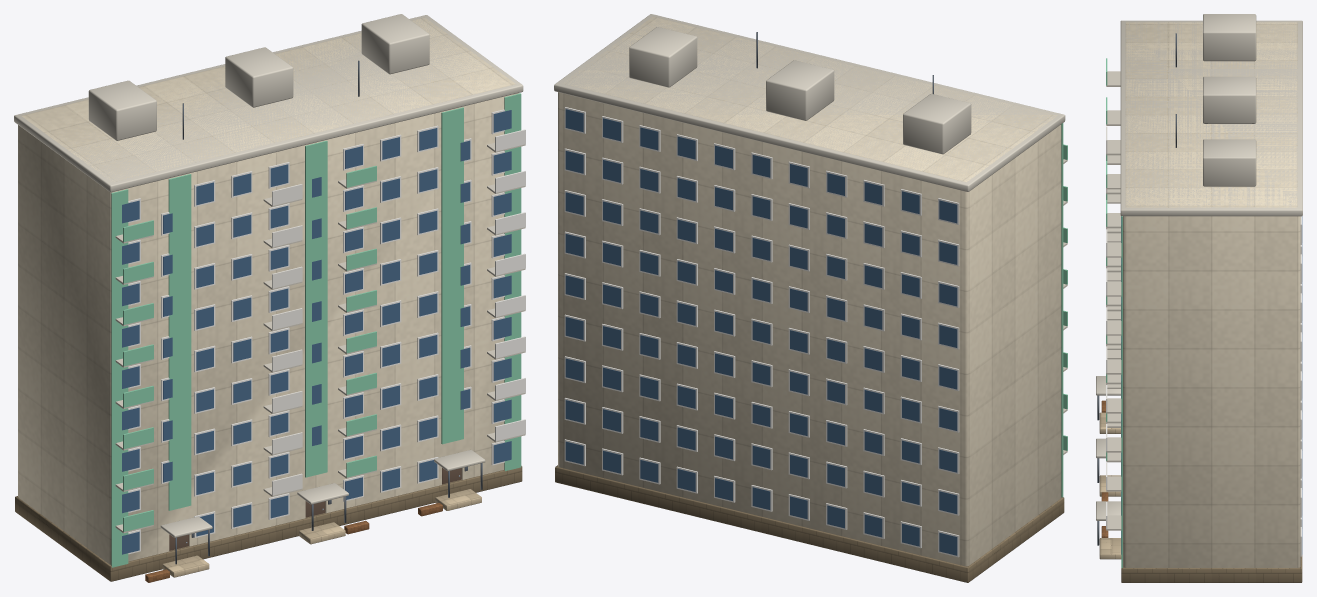
Rendered from panel_a.gltf.
3 views of the same model, side by side, from view 1: azimuth 30°, elevation 25°; view 2: azimuth 150°, elevation 25°; view 3: azimuth 270°, elevation 25° (orthographic). The views are drawn at different scales.
Visible parts, largest first — view 1: panel_a_mesh; view 2: panel_a_mesh; view 3: panel_a_mesh.
Boxes of the visible parts, box(x1,y1,x2,y2) form: panel_a_mesh: box(14, 14, 525, 582); panel_a_mesh: box(554, 14, 1067, 582); panel_a_mesh: box(1096, 14, 1302, 582).
Size of what is drawn, in the model's own units: 30.3 by 30.3 by 13.95.
Materials: 14 (4 with a texture image).
